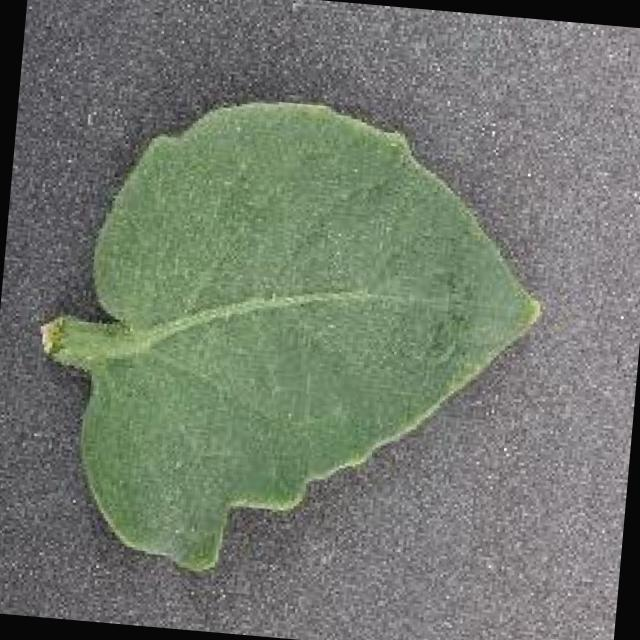healthy: (41, 98, 537, 568)
